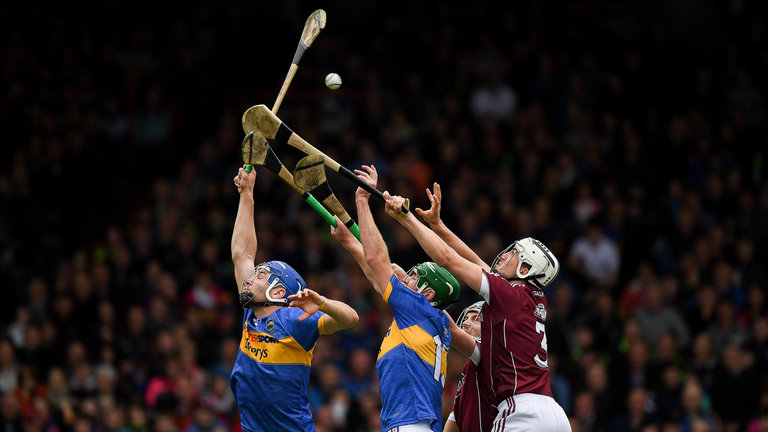ball: (327, 72, 340, 90)
player: (225, 248, 336, 417), (478, 231, 566, 424), (370, 246, 453, 418)
